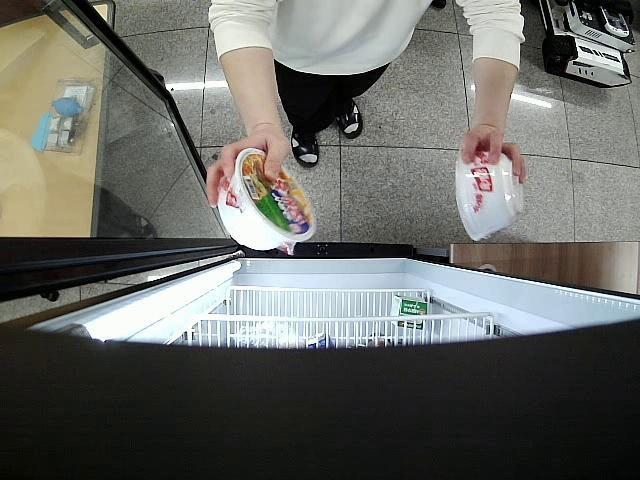09_yukGaeJang: (216, 148, 318, 251), (454, 146, 522, 242)
